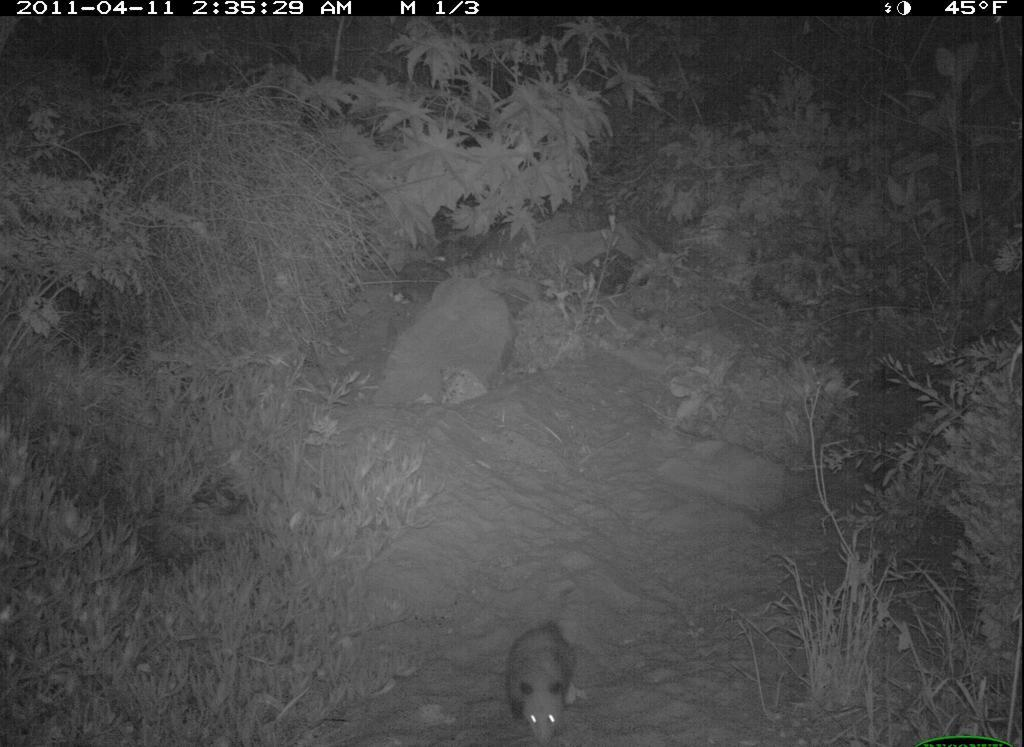opossum: (495, 607, 583, 747)
